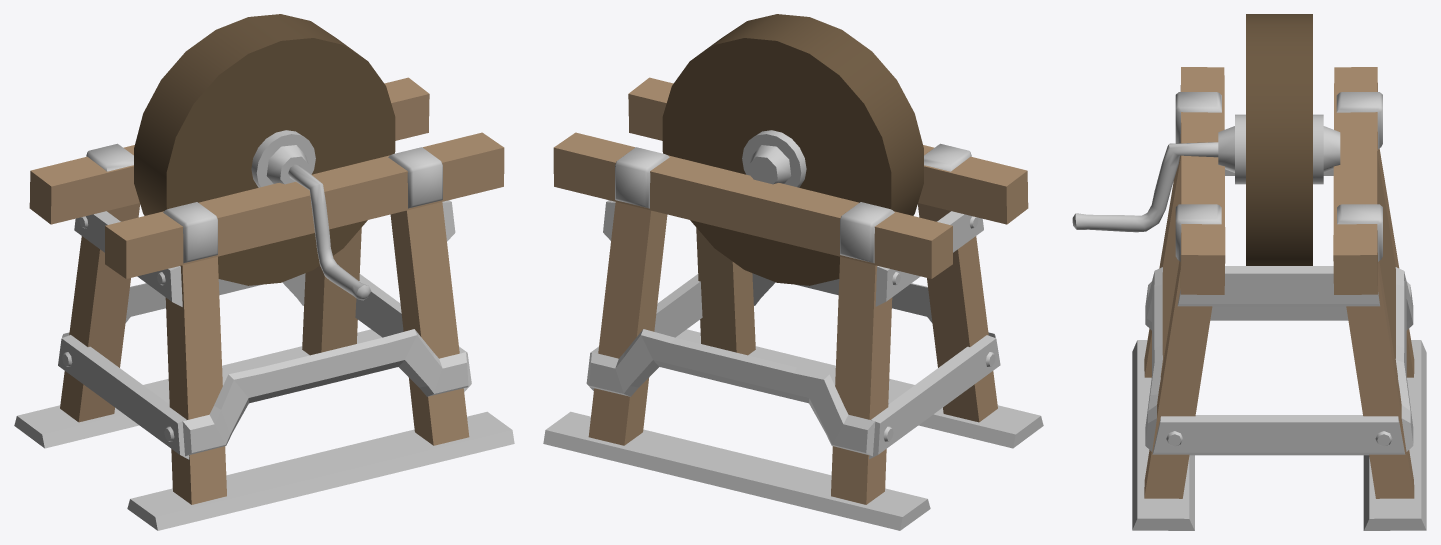
Rendered from Whetstone.gltf.
3 views of the same model, side by side, from view 1: azimuth 30°, elevation 25°; view 2: azimuth 150°, elevation 25°; view 3: azimuth 270°, elevation 25° (orthographic). The views are drawn at different scales.
Parts seen in each view (by area): view 1: Whetstone; view 2: Whetstone; view 3: Whetstone.
Boxes of the visible parts, left/top/right/bottom form: Whetstone: left=14, top=14, right=514, bottom=530; Whetstone: left=543, top=14, right=1043, bottom=530; Whetstone: left=1072, top=14, right=1426, bottom=530.
Bounding box in the file's own units: 1.14 × 1.17 × 0.9018.
